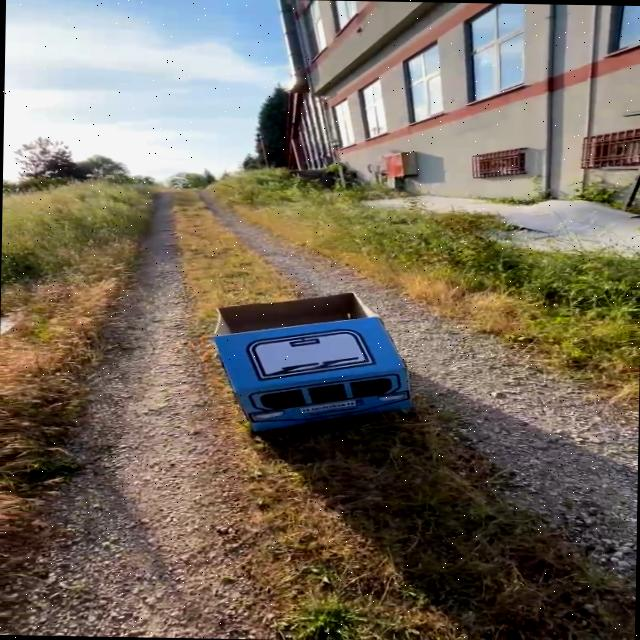blue_car: (176, 268, 472, 482)
